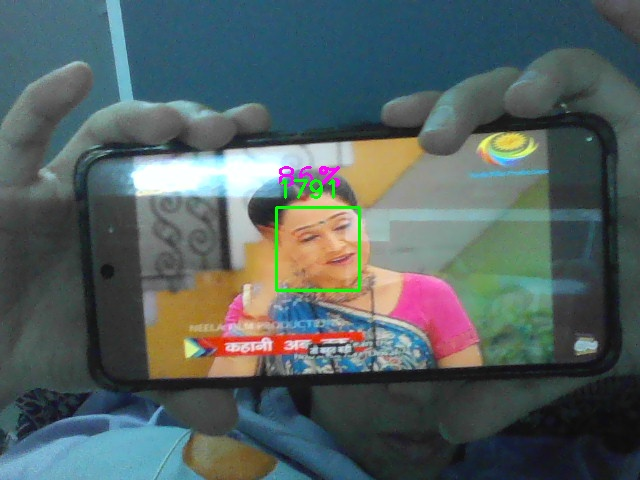fake: (276, 207, 360, 291)
